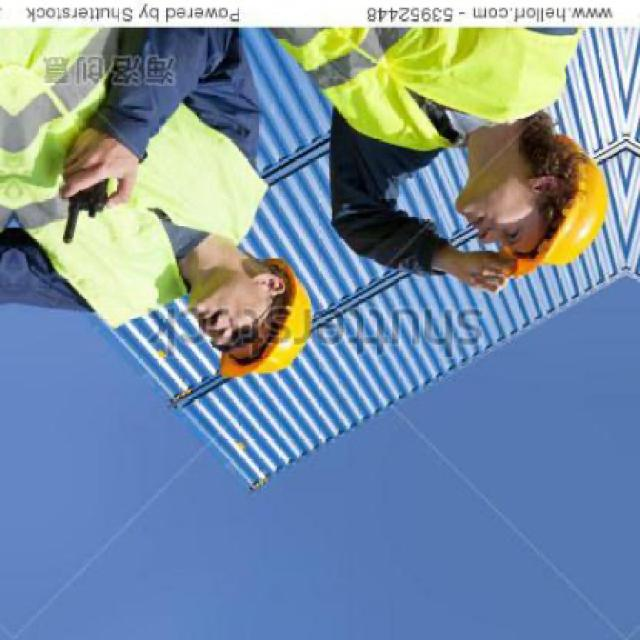con casco: (433, 120, 624, 286), (150, 213, 324, 380)
